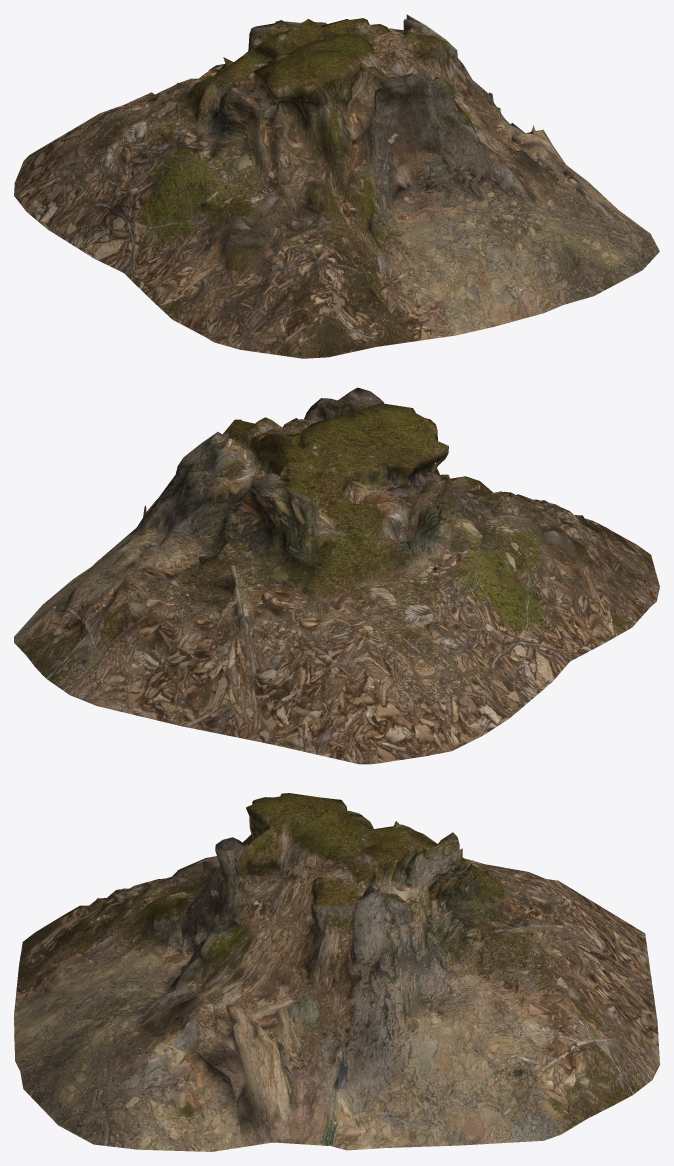
Rendered from tree_stump_01.glb.
3 renders of one model, top to bottom at view 1: azimuth 30°, elevation 25°; view 2: azimuth 150°, elevation 25°; view 3: azimuth 270°, elevation 25°, orthographic. The views are drawn at different scales.
Size of the model in its own units: 1.43 by 0.57 by 1.59.
Materials: 1 (1 with a texture image).
